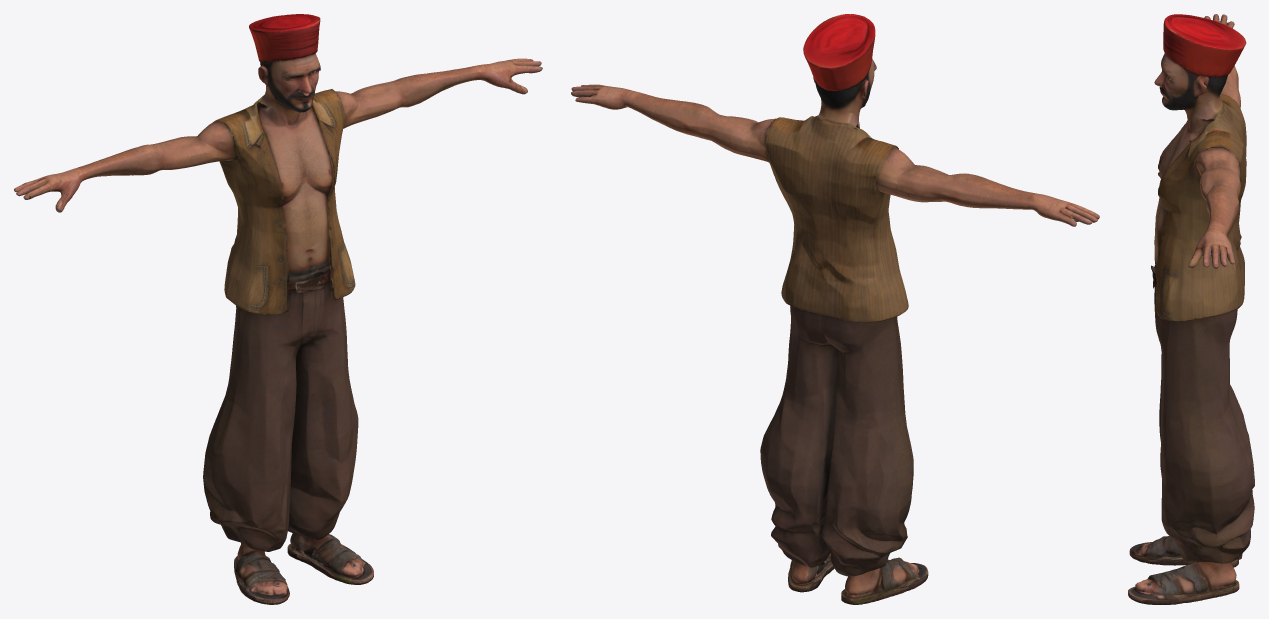
File: turk_villiger_t-pose2.glb
3 renders of one model, left to right at view 1: azimuth 30°, elevation 25°; view 2: azimuth 150°, elevation 25°; view 3: azimuth 270°, elevation 25°, orthographic.
Visible parts, largest first — view 1: Object_4; view 2: Object_4; view 3: Object_4.
Part boxes in pixels (x1,y1,x2,y2): Object_4: (14, 14, 542, 604); Object_4: (571, 14, 1099, 604); Object_4: (1128, 14, 1254, 604).
Bounding box in the file's own units: 1.98 × 2 × 0.4153.
1 material, 1 textured.
